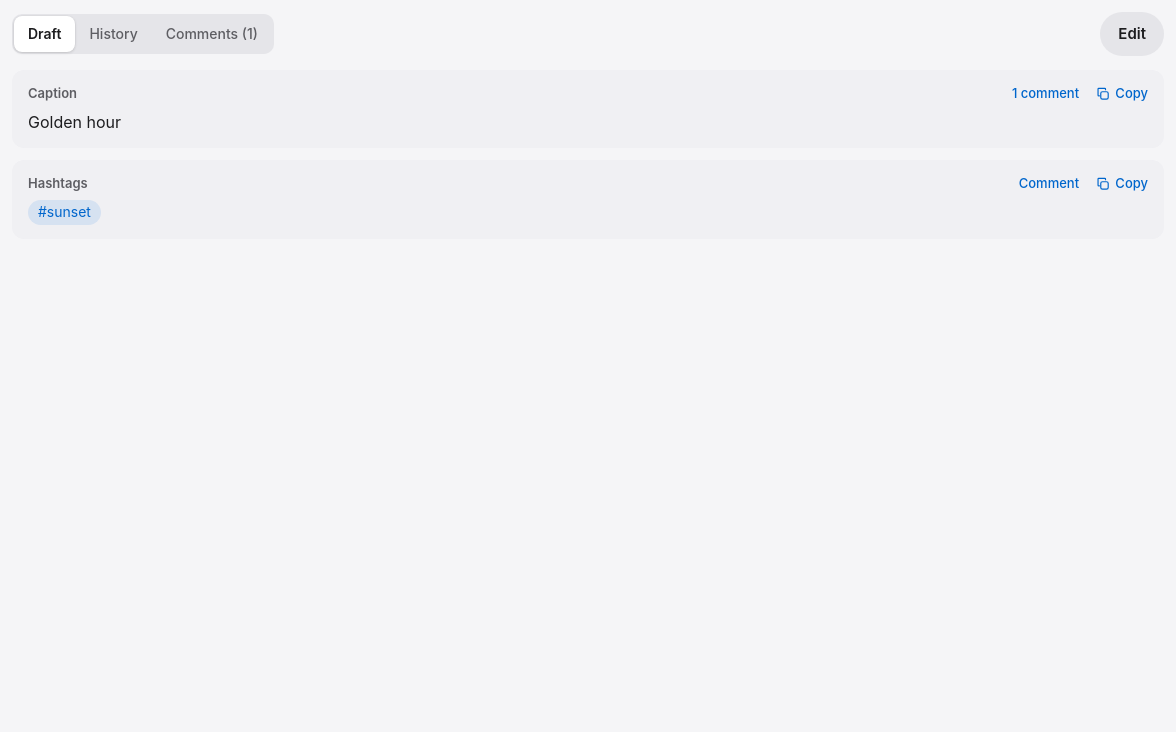
Scenario: DraftPanel › starts a comment from a field and shows open threads
Expected: the radio button labelled "Comments (1)" is shown, [152,16,272,52]
Click the button "1 comment": [1046, 94] box [1004,78,1087,110]
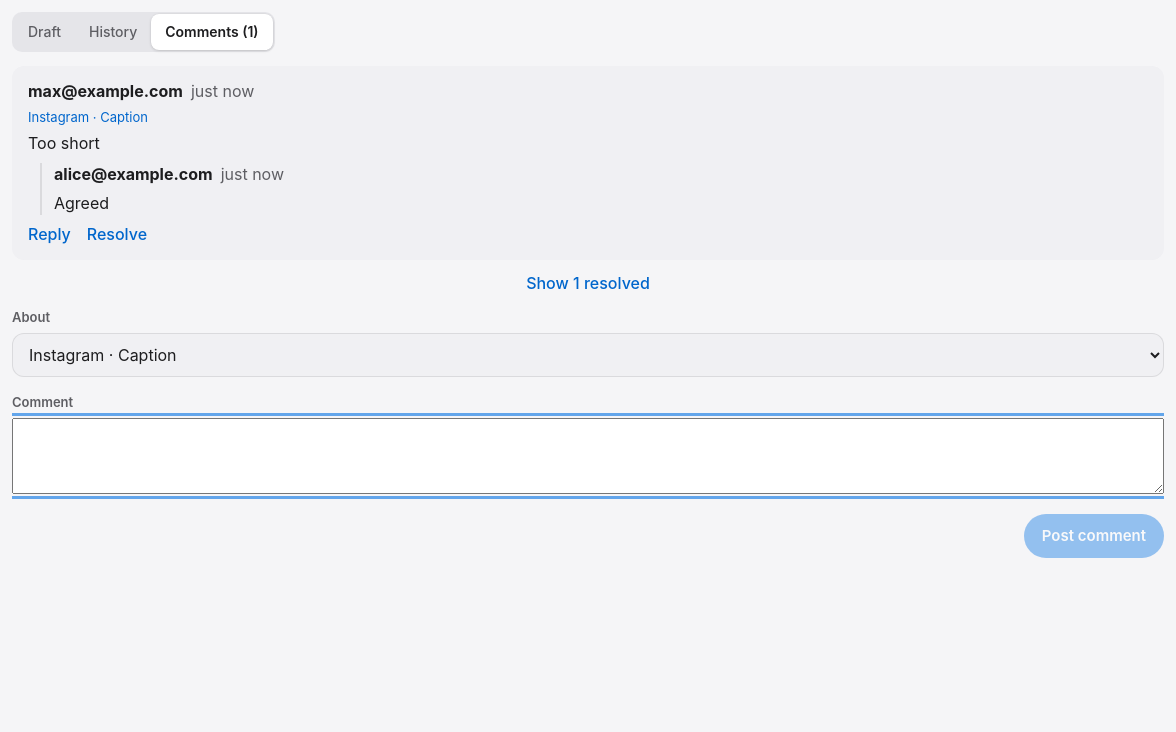
Expected: the text "Too short" is shown, [28,133,100,153]
Expected: the text "Agreed" is shown, [54,192,109,212]
Expected: the dropdown labelled "About" shows "Instagram · Caption", [12,333,1164,377]
In the text box labelled "Comment": [588, 456] box [12,418,1164,494], type "Try mentioning the pier"
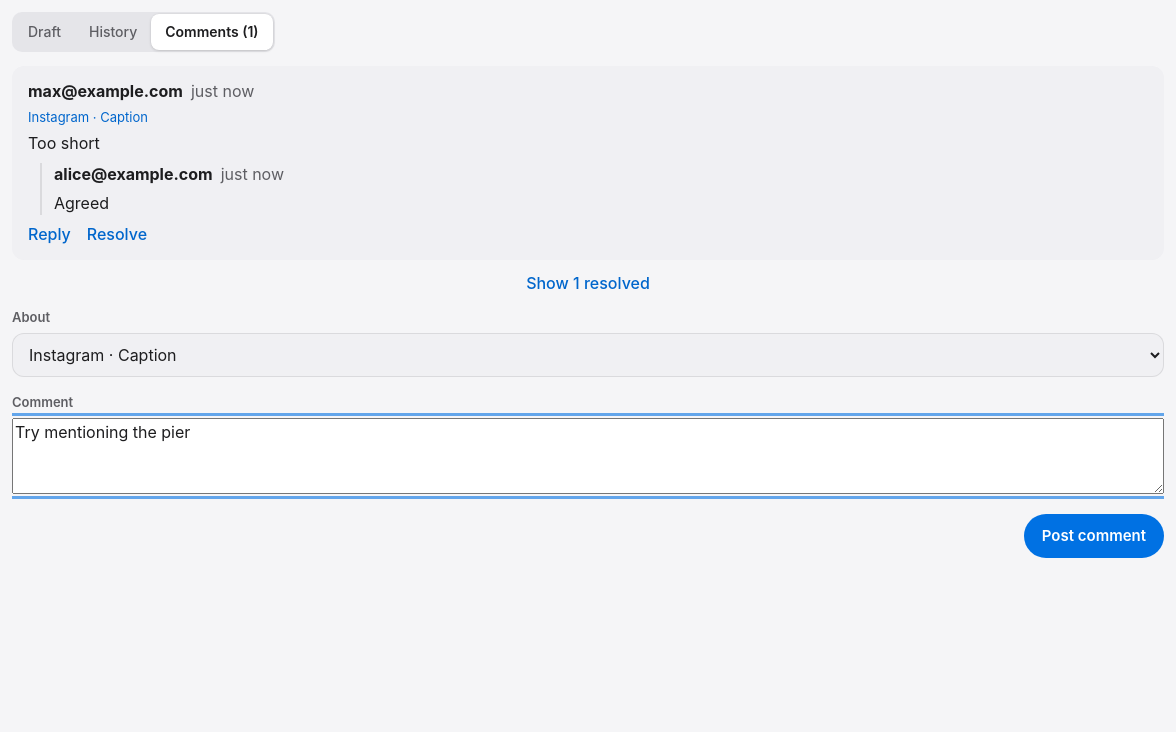
Click the button "Post comment": [1094, 536] box [1024,514,1164,558]
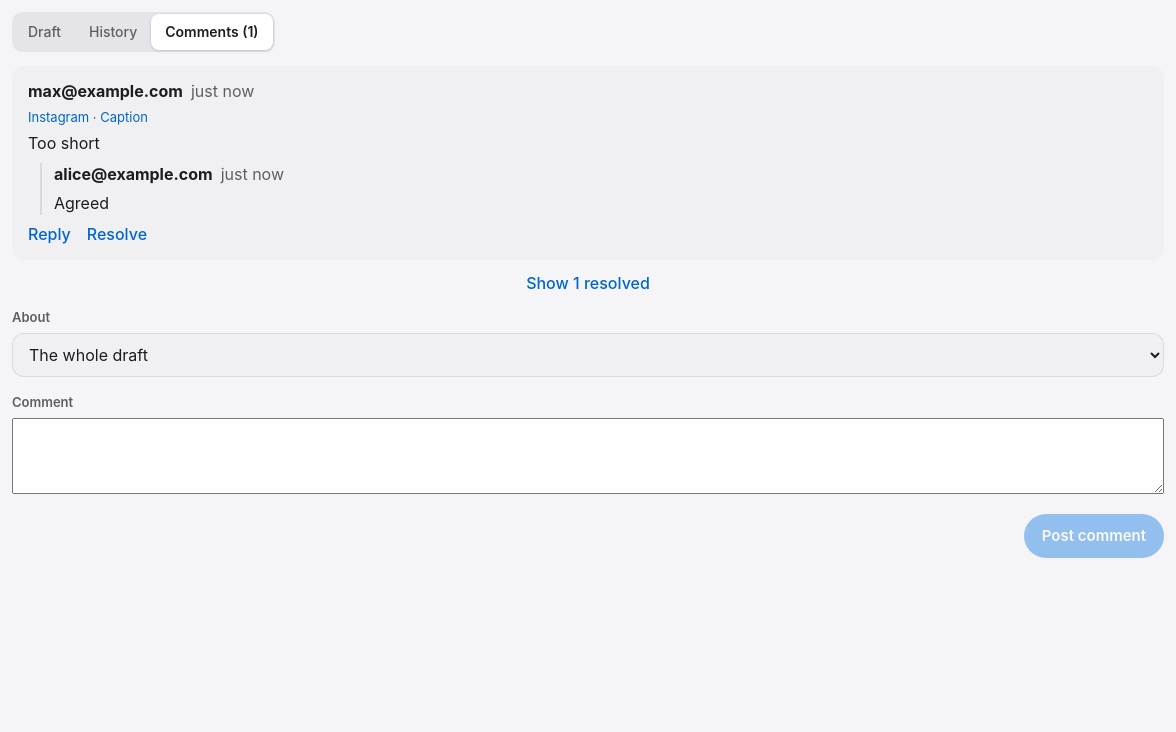
Click the button "Show 1 resolved": [588, 284] box [12,272,1164,296]
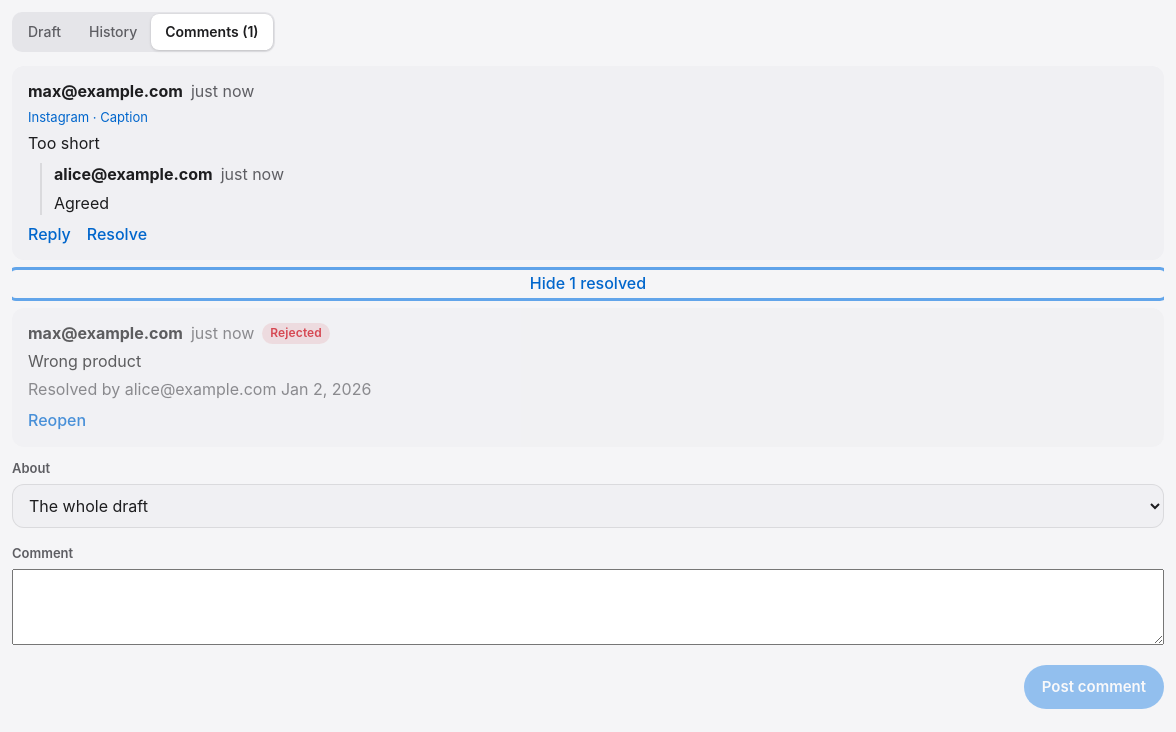
Expected: the text "Wrong product" is shown, [28,351,141,371]
Expected: the text "Rejected" is shown, [262,323,330,344]
